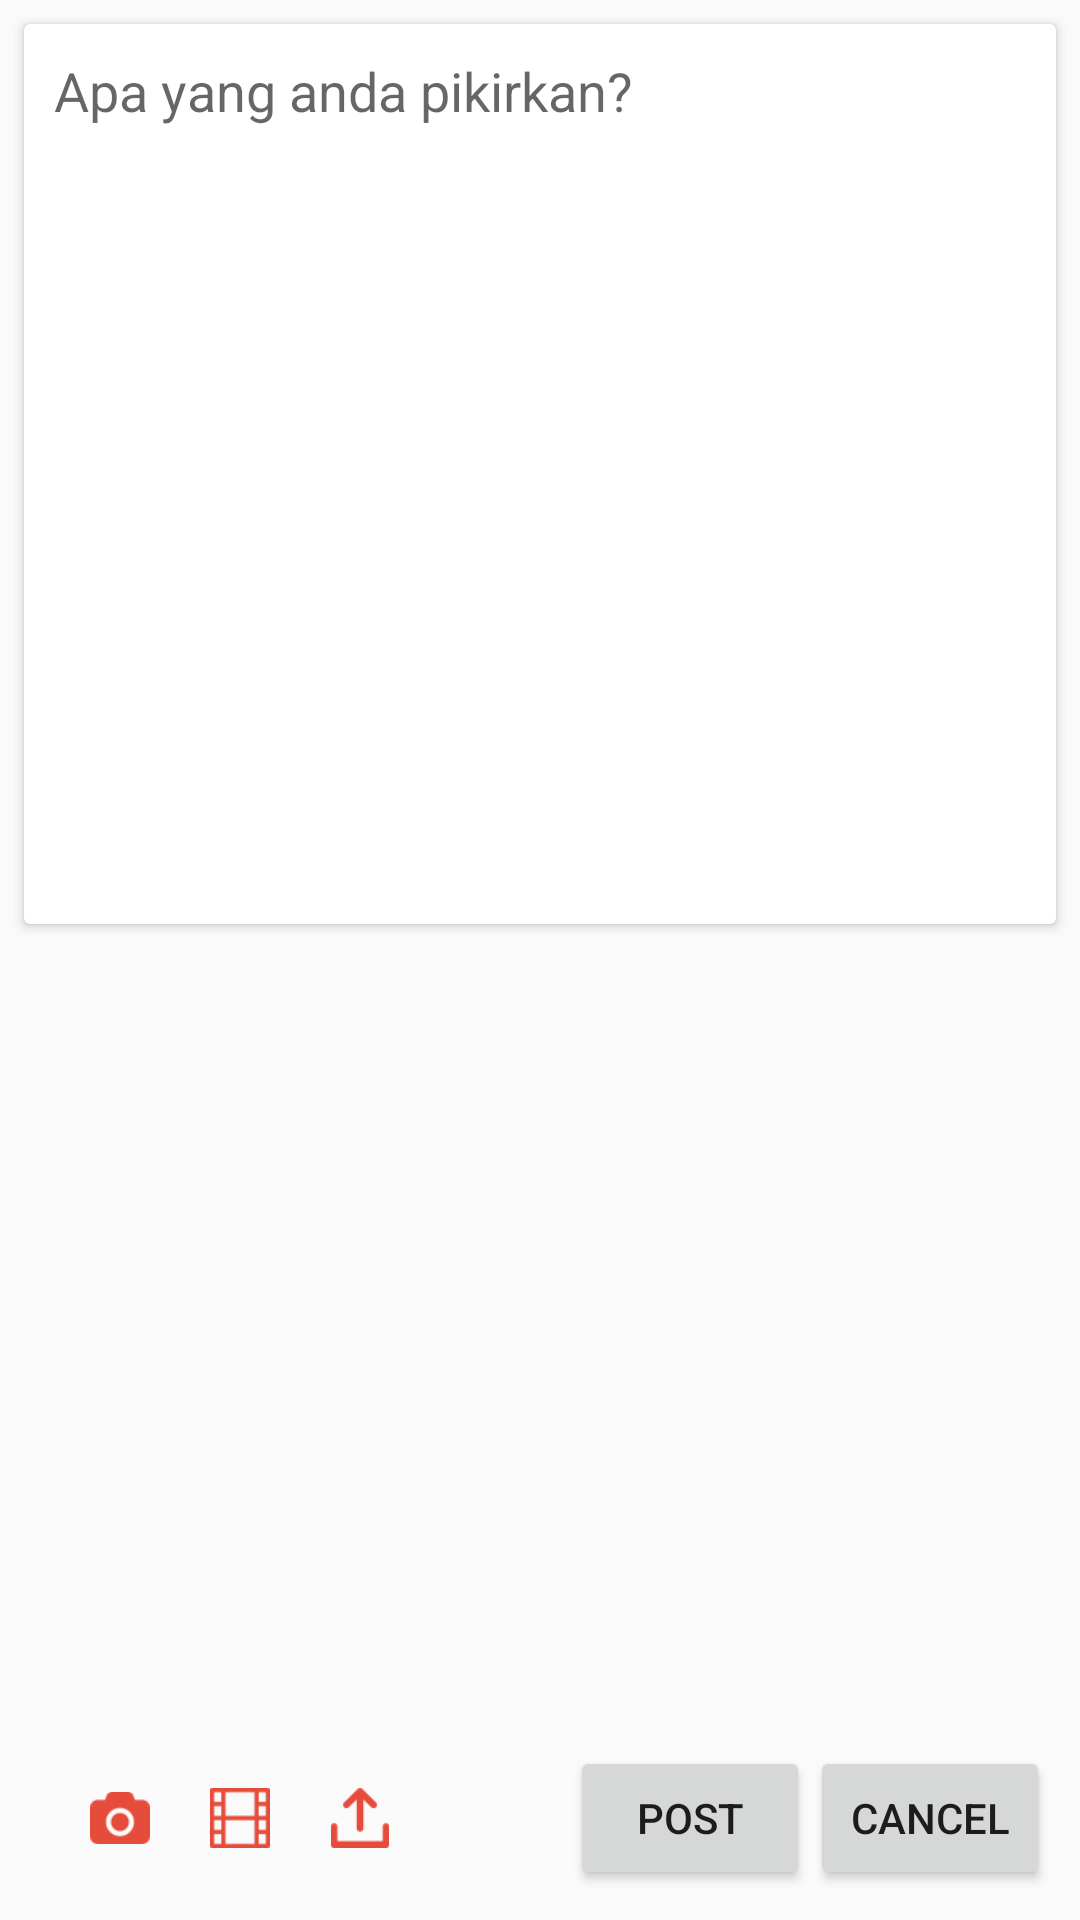

Screen size 1080w x 1920h. Icon name, then its box in pixels as (x1, y1, x2, y2):
feed berkas: (331, 1788, 389, 1848)
feed foto: (90, 1792, 150, 1844)
feed video: (210, 1788, 270, 1848)
